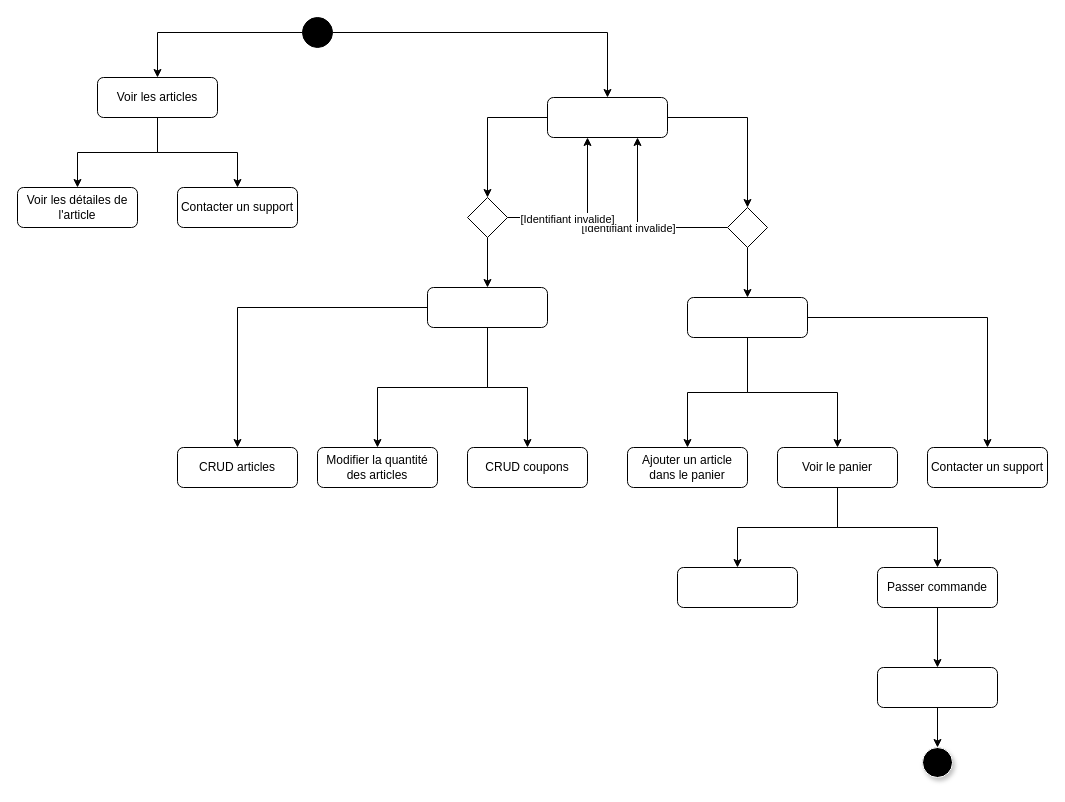
This 1065x802 diagram has some shape labels left out. The shapes that lost their labels are listed below. From the top down, each one's centre as x and y in pixels, then its label:
At pixel 607 117: "Se connecter".
At pixel 487 307: "Voir les articles en tant qu'ADMIN".
At pixel 747 317: "Voir les articles en tant qu'USER".
At pixel 737 587: "Modifier sa quantité dans le panier".
At pixel 937 687: "Livraison de la commande".
